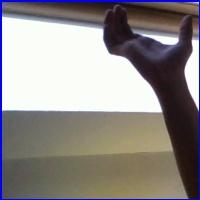space: (92, 4, 196, 78)
